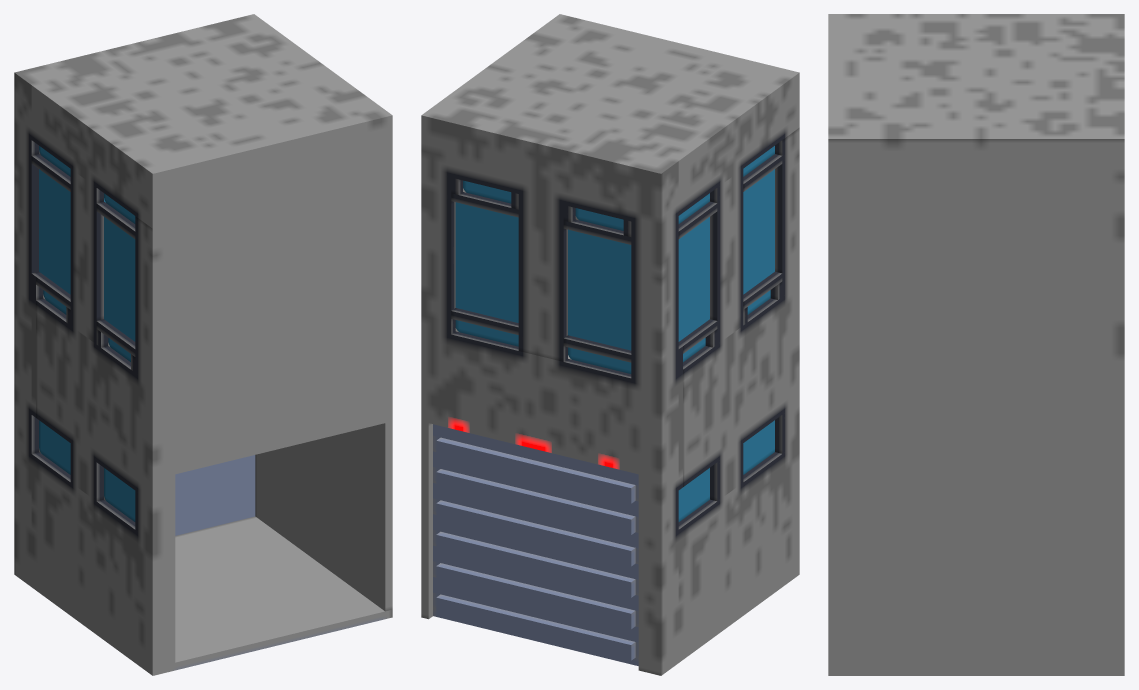
Rendered from poczta_brama_v4.dae.
3 views of the same model, side by side, from view 1: azimuth 30°, elevation 25°; view 2: azimuth 150°, elevation 25°; view 3: azimuth 270°, elevation 25° (orthographic). The views are drawn at different scales.
Parts seen in each view (by area): view 1: Content; view 2: Content; view 3: Content.
Boxes of the visible parts, x1,y1,x2,y2 form: Content: (14,14,392,675); Content: (421,14,799,675); Content: (828,14,1124,675).
Bounding box in the file's own units: 32 × 64 × 32.
1 material, 1 textured.
